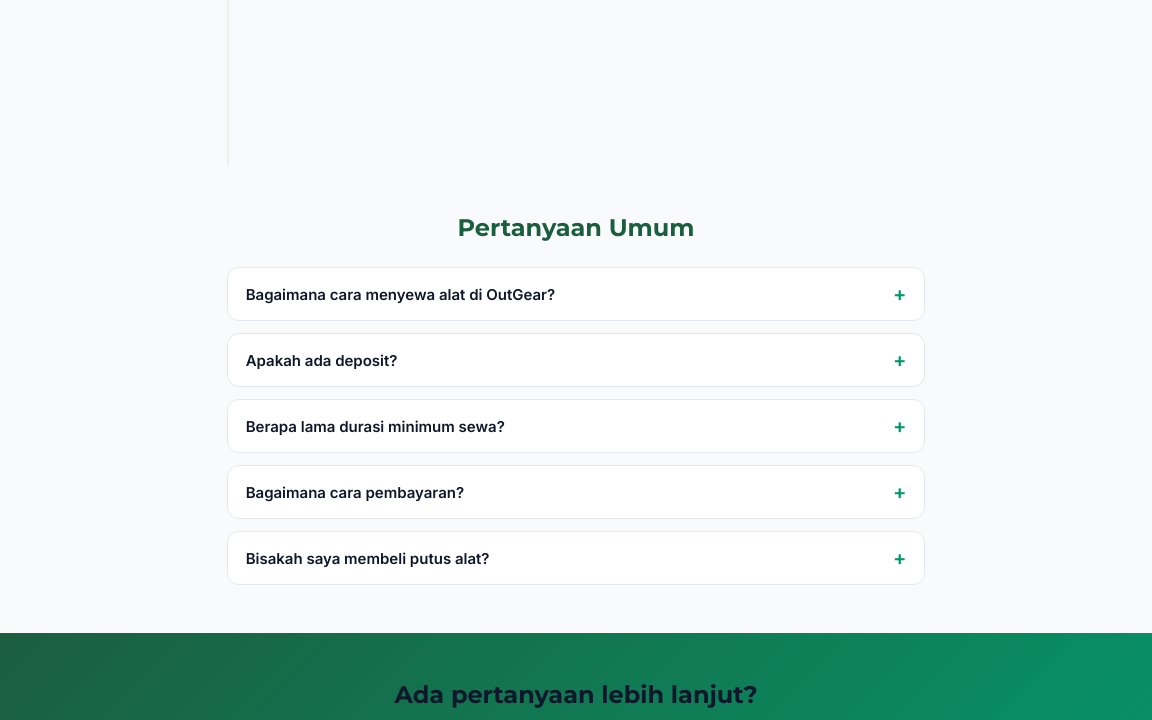
Test: TentangPage › expands and collapses FAQ answers when clicked
(page scrolled)
Expected: the text "Rp 50.000" is not shown
What coordinates should you click on to do the following:
click the text "Apakah ada deposit?"
I would click on:
 (322, 360)
Its box is [246, 351, 398, 370].
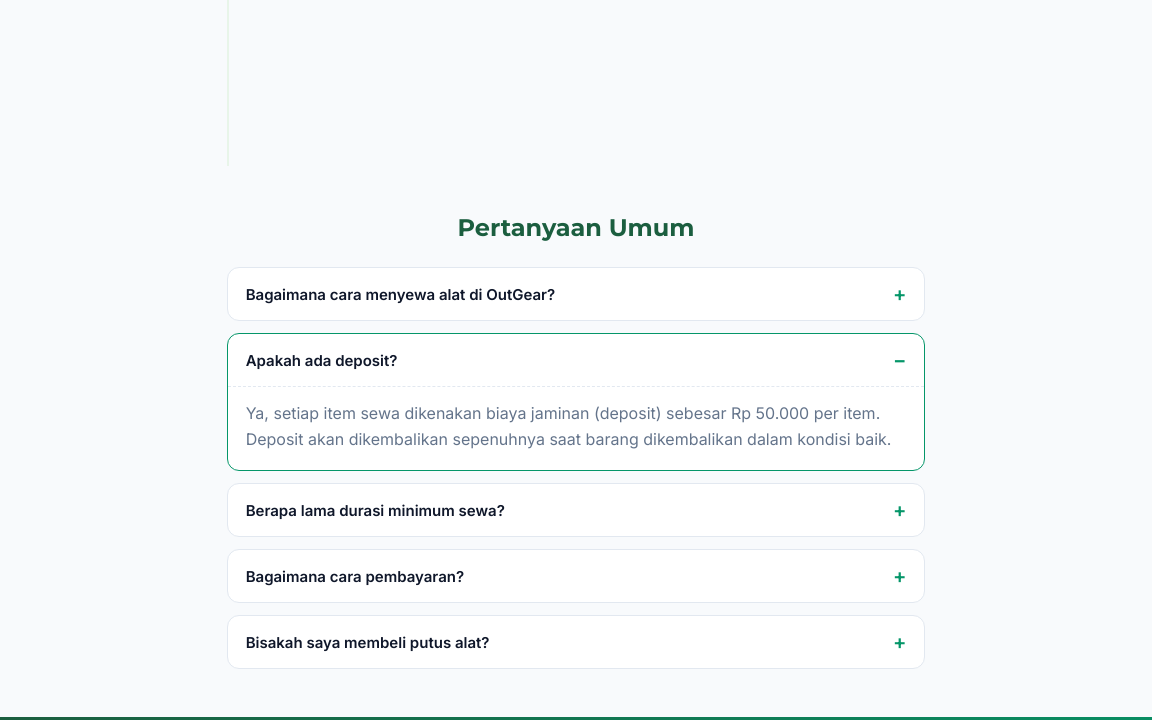
Result: the text "Rp 50.000" is shown at [246, 403, 891, 449]
What coordinates should you click on to do the following:
click the text "Apakah ada deposit?"
I would click on:
 (322, 360)
Its box is [246, 351, 398, 370].
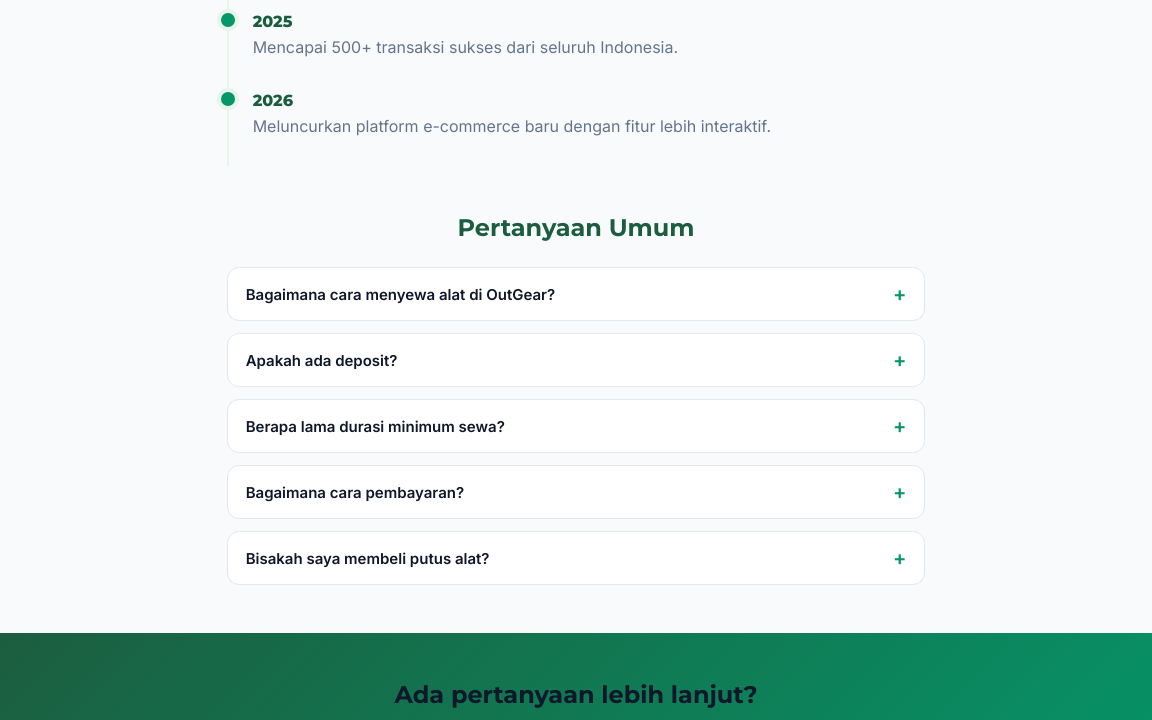
Result: the text "Rp 50.000" is gone
